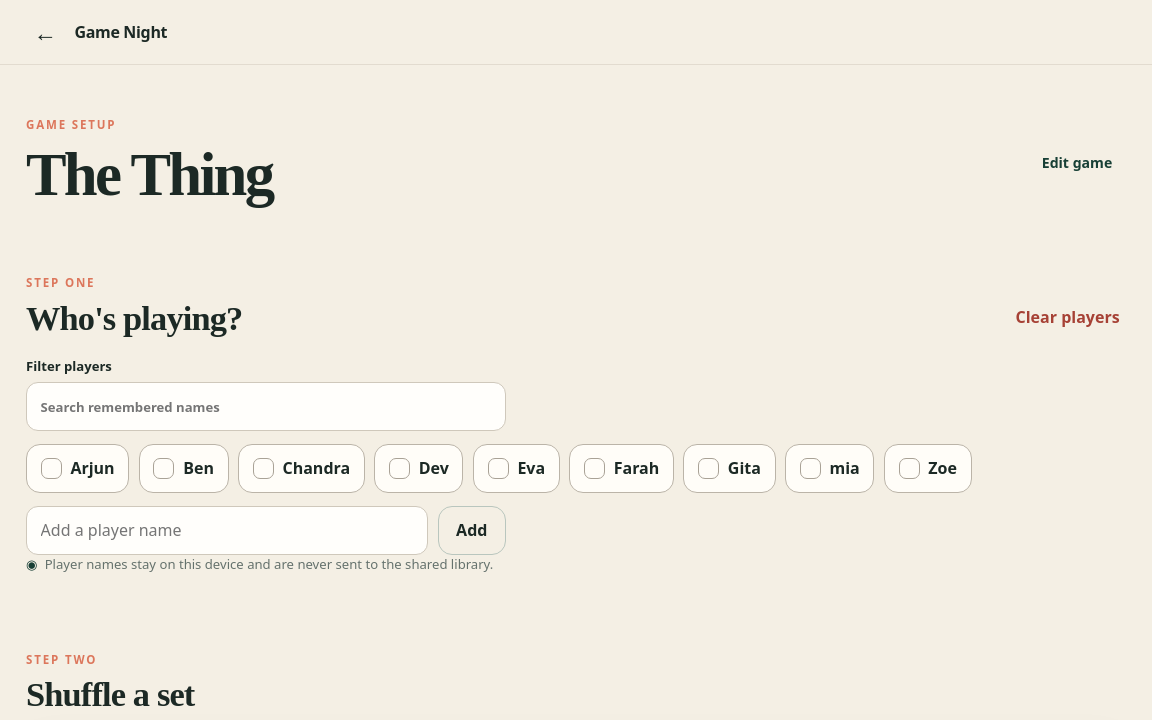
Test: assignment option descriptions › shows the description beneath an assigned option
What coordinates should you click on to do the following:
click the button "Arjun"
I would click on:
 (78, 468)
Its box is [26,444,129,493].
(page scrolled)
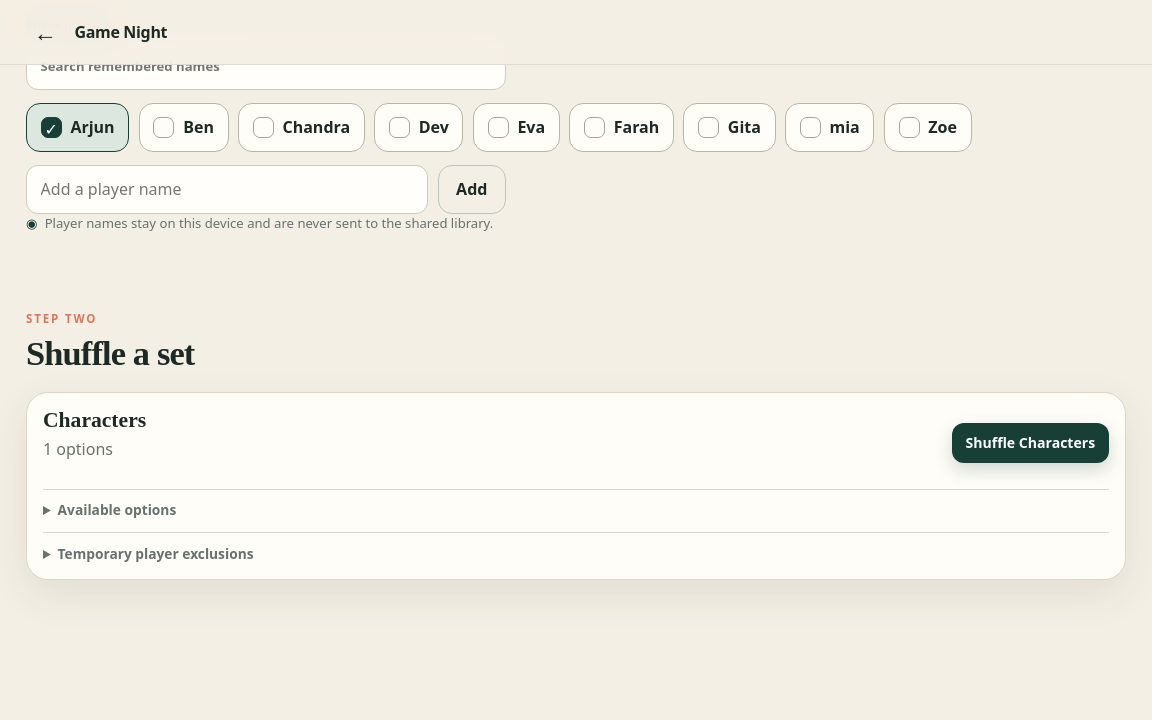
What coordinates should you click on to do the following:
click the button "Shuffle Characters"
I would click on:
 (1030, 443)
Its box is [952,423,1109,463].
(page scrolled)
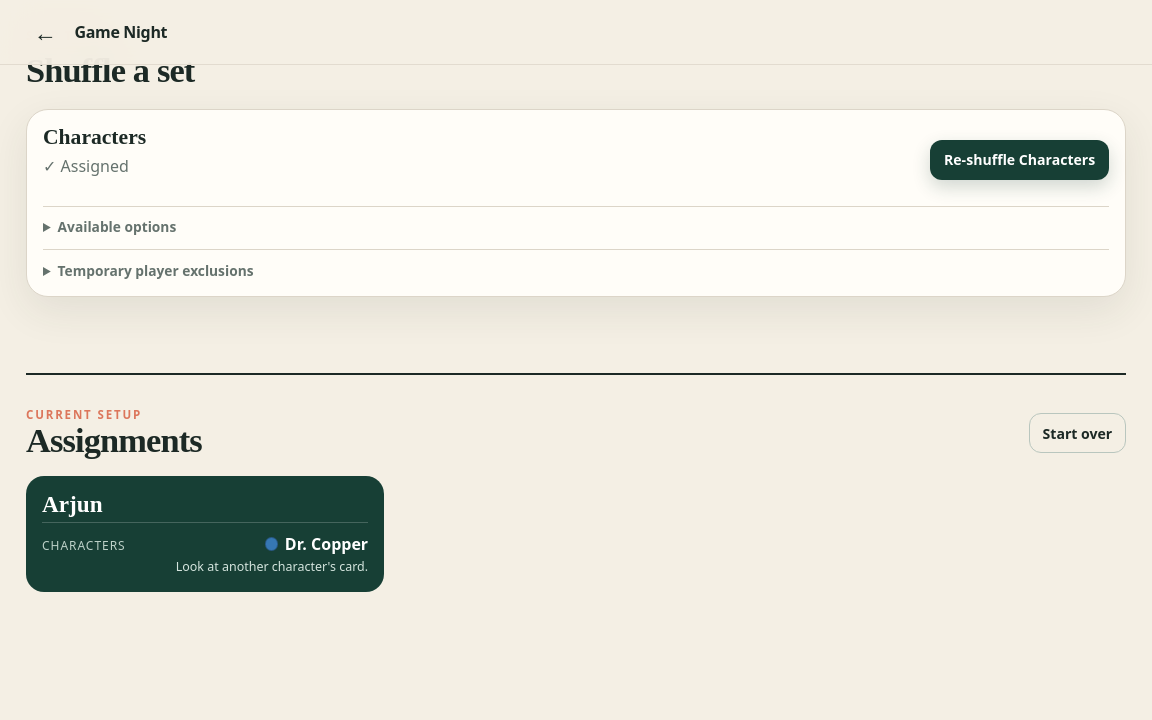
Check: the element "Arjun" is shown, box [26,476,384,592]
Check: the text "Dr. Copper" is shown, box [265,533,402,555]
Check: the text "Look at another character's card." is shown, box [176,559,368,576]
